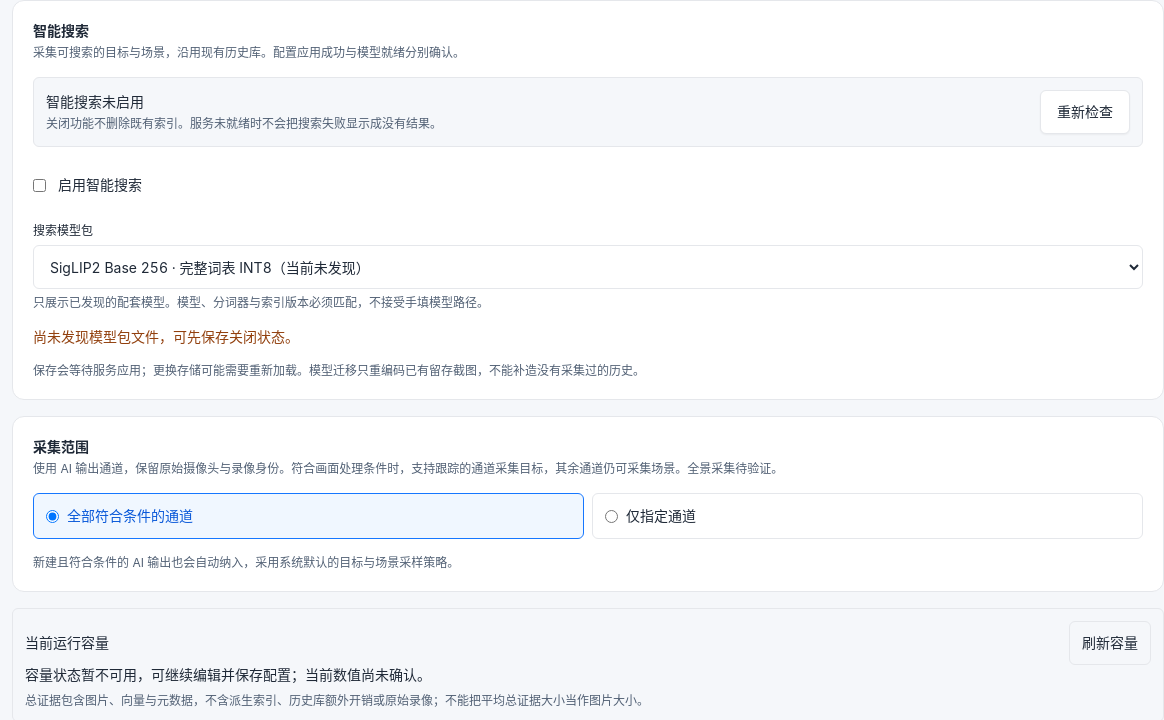
it: 智能搜索配置 › prevents enabling without a model and external disk instead of claiming readiness
Expected: the text "智能搜索未启用" is shown, [46,93,144,110]
Click the checkbox labelled "启用智能搜索". click: (40, 185)
box: [33,178,46,192]
(page scrolled)
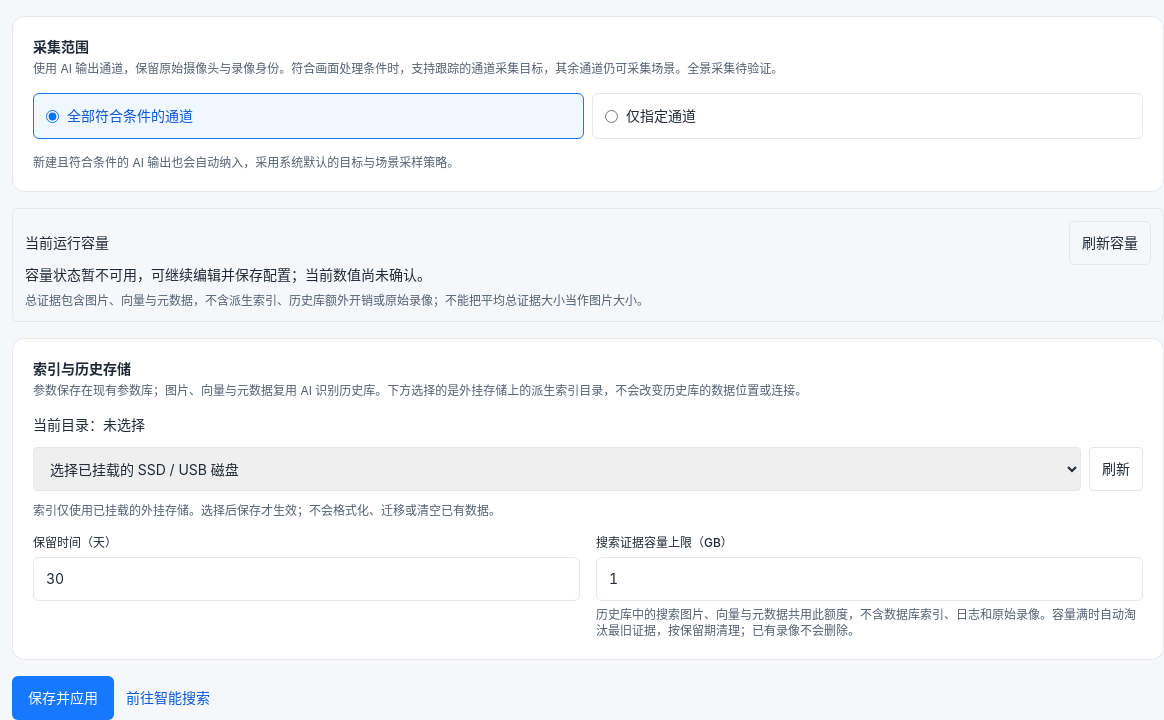
Click the button "保存并应用". click: (63, 698)
box: [12,676,114,719]
(page scrolled)
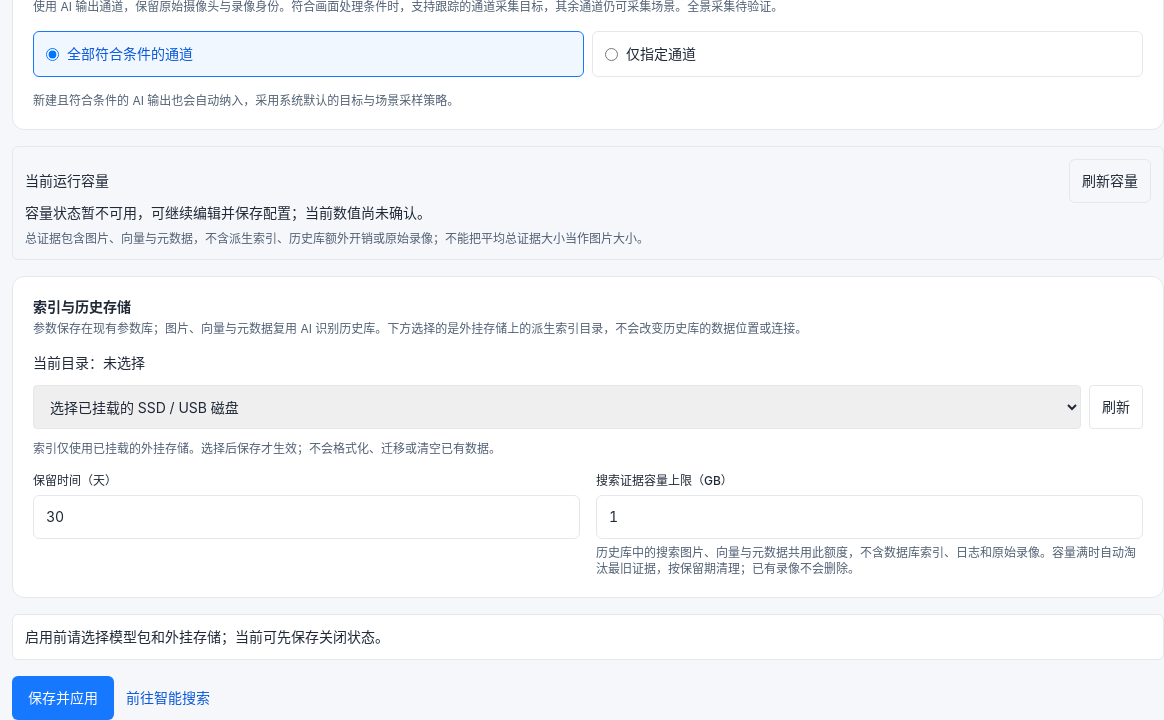
Expected: the text "启用前请选择模型包和外挂存储；当前可先保存关闭状态。" is shown, [12,614,1163,660]
